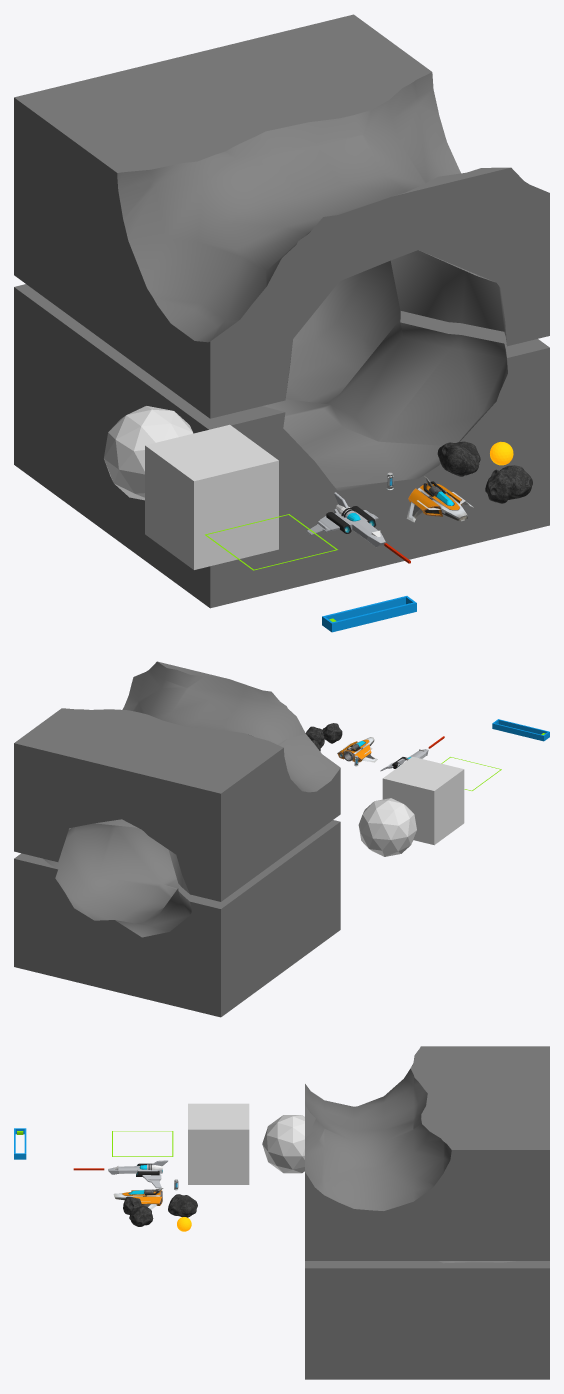
The model's file is ships.glb.
3 renders of one model, top to bottom at view 1: azimuth 30°, elevation 25°; view 2: azimuth 150°, elevation 25°; view 3: azimuth 270°, elevation 25°, orthographic. The views are drawn at different scales.
Parts seen in each view (by area): view 1: block_top, block, cube, icosphere, ui_progress, ship.002, ship.001, asteroid.002, asteroid.003; view 2: block_top, block, cube, icosphere, ui_progress, ship.001; view 3: block_top, block, cube, icosphere, ship.002, ship.001, asteroid.002.
Part boxes in pixels (x1,y1,x2,y2): block_top: (14, 14, 549, 418); block: (14, 260, 549, 608); cube: (145, 424, 278, 569); icosphere: (104, 406, 193, 500); ui_progress: (322, 596, 416, 632); ship.002: (306, 492, 385, 546); ship.001: (406, 476, 473, 522); asteroid.002: (437, 441, 480, 476); asteroid.003: (485, 469, 514, 503); block_top: (14, 661, 340, 901); block: (14, 820, 340, 1017); cube: (382, 756, 464, 845); icosphere: (358, 798, 416, 856); ui_progress: (492, 719, 549, 741); ship.001: (337, 737, 377, 762); block_top: (305, 1046, 549, 1260); block: (305, 1261, 549, 1379); cube: (188, 1103, 249, 1184); icosphere: (262, 1115, 304, 1173); ship.002: (108, 1160, 168, 1187); ship.001: (113, 1188, 163, 1209); asteroid.002: (168, 1194, 197, 1217).
Bounding box in the file's own units: 10.62 × 8.26 × 17.49.
Materials: 12 (6 with a texture image).
